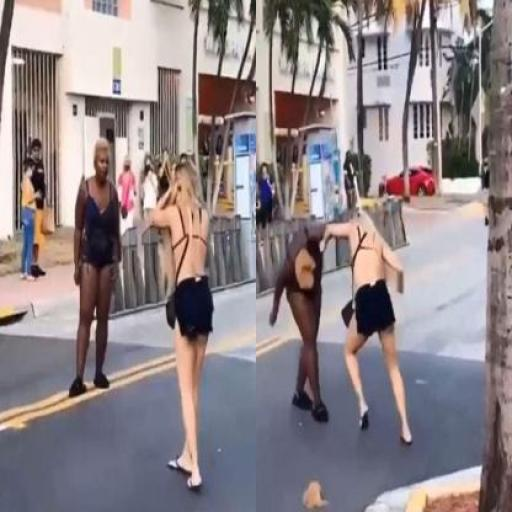Fighting: (82, 140, 226, 497), (272, 168, 416, 452)
